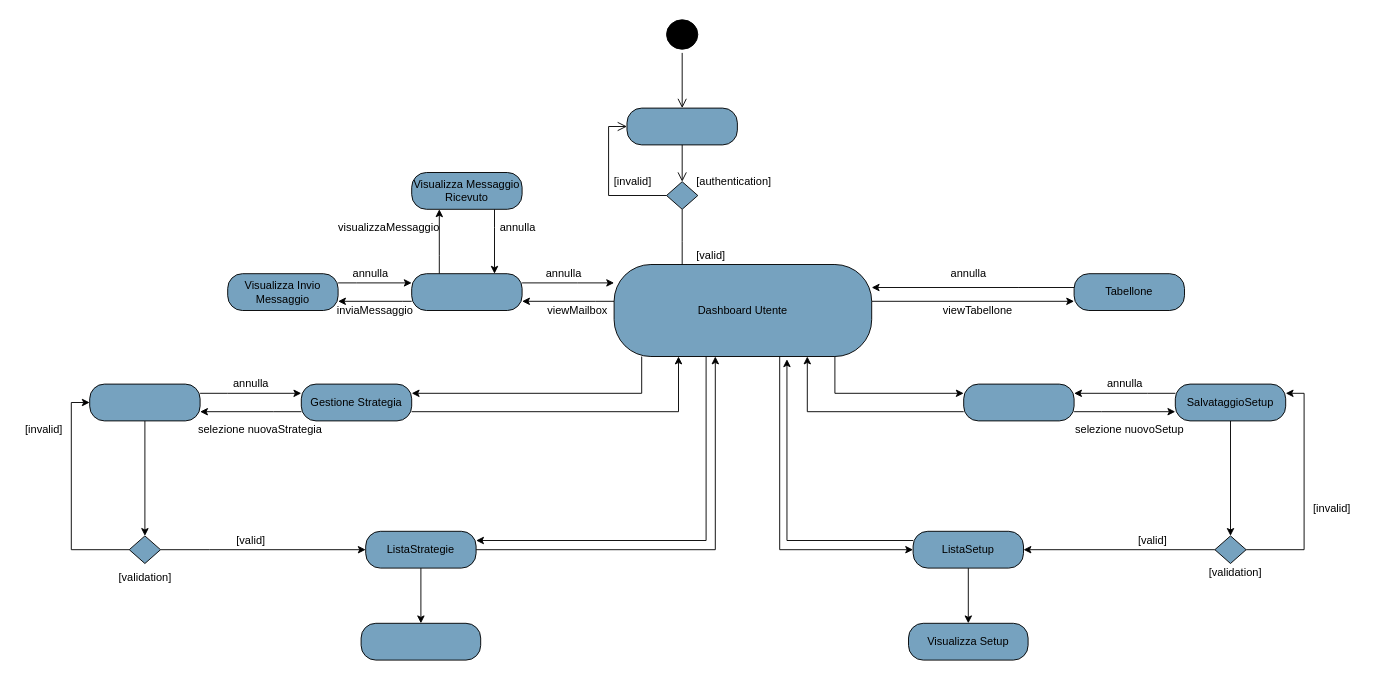
The diagram is 1374 pixels wide and 676 high, and some of its shapes have lost their labels. The shapes that lost their labels are listed below. From the top down, each one's centre as x and y in pixels, then its label:
At [681,126]: "Login".
At [466,291]: "Casella Posta".
At [144,402]: "SalvataggioStrategia".
At [1018,402]: "Gestione Setup".
At [420,641]: "Visualizza Strategia".
